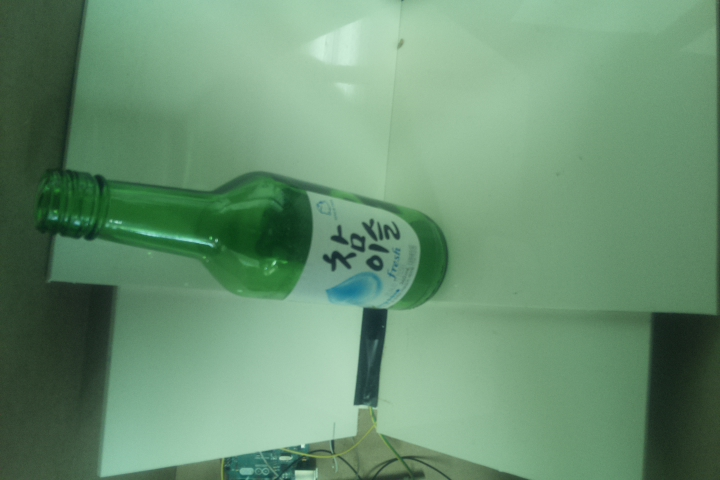soju: (31, 164, 451, 314)
